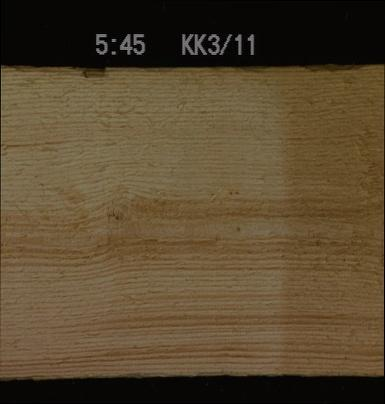wave: (0, 63, 108, 73)
